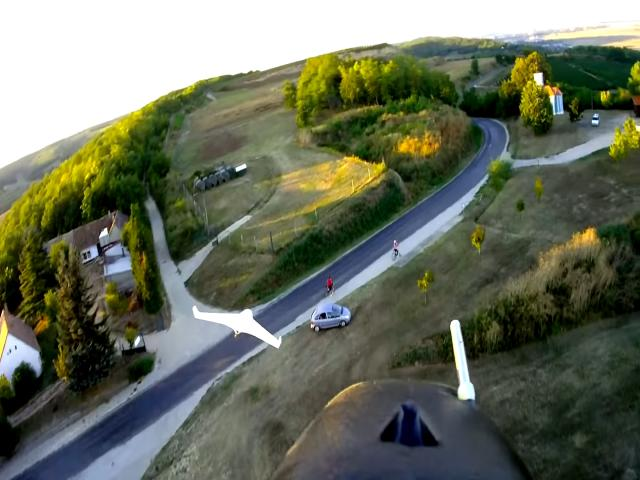plane: (192, 306, 280, 351)
